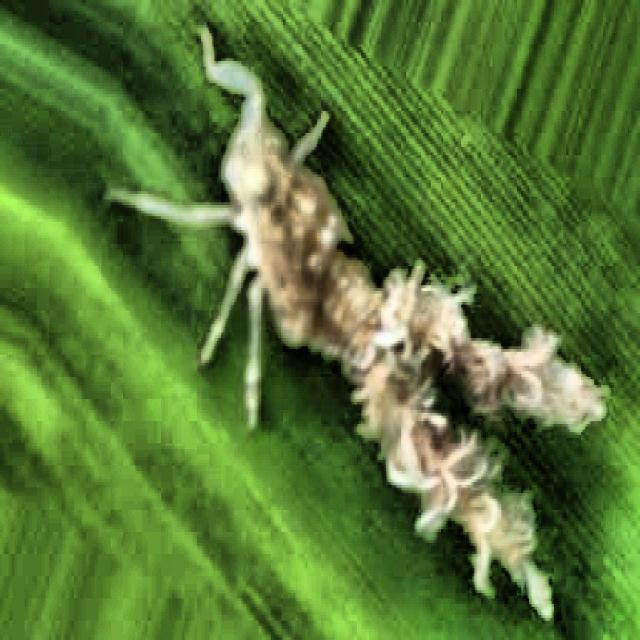Pyrilla-perpusilla: (139, 24, 612, 604)
